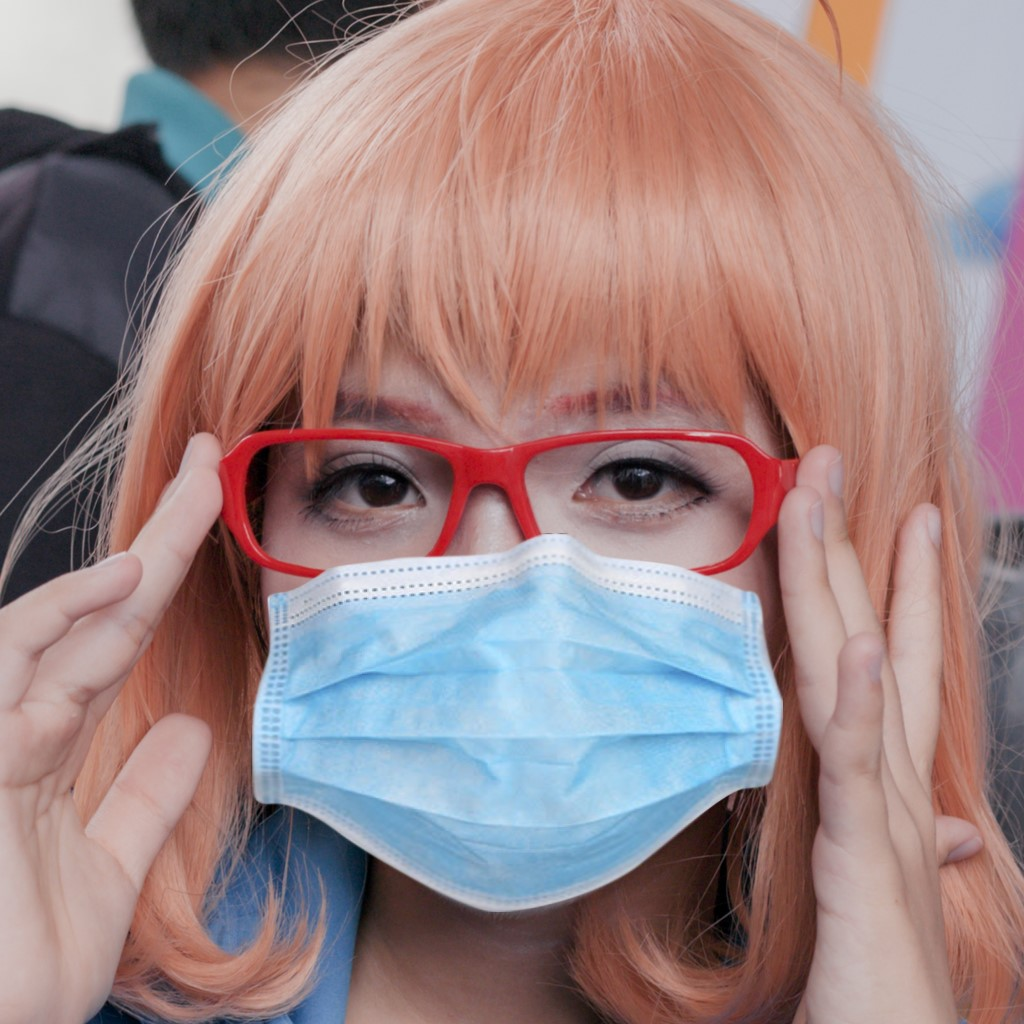con_mascara: (240, 259, 843, 900)
